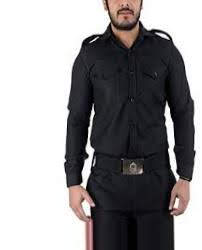uniform: (74, 28, 192, 246)
